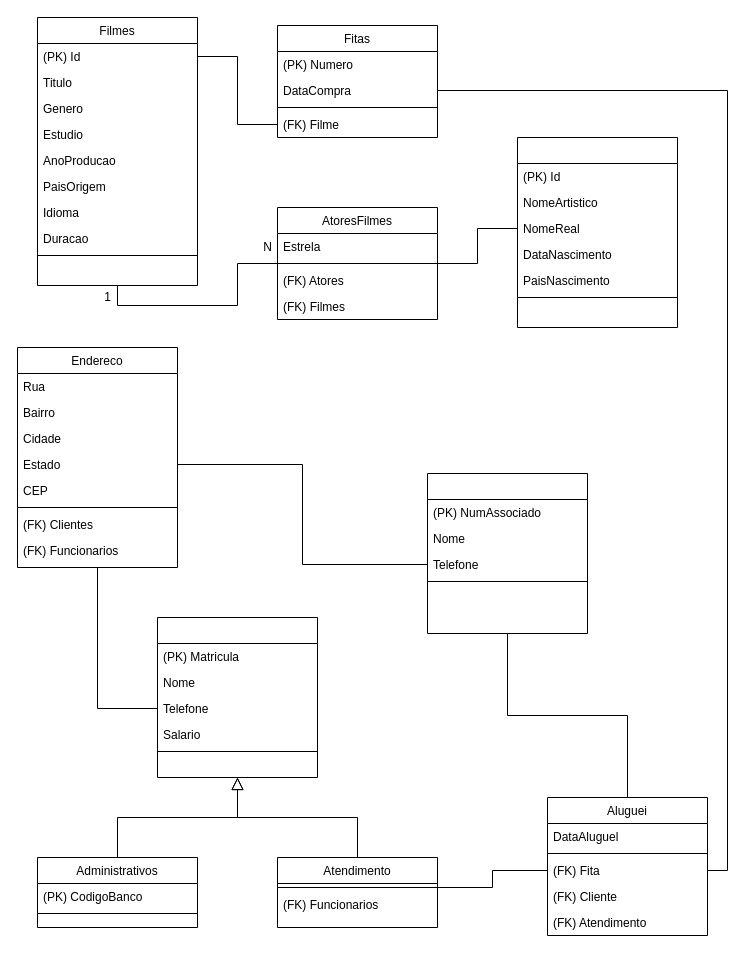
Image size: 746x956. Some labels were removed from this diagram. Each missing label, with the box of its shape:
Atores: (516, 136, 678, 328)
Clientes: (426, 472, 588, 634)
Funcionarios: (156, 616, 318, 778)
